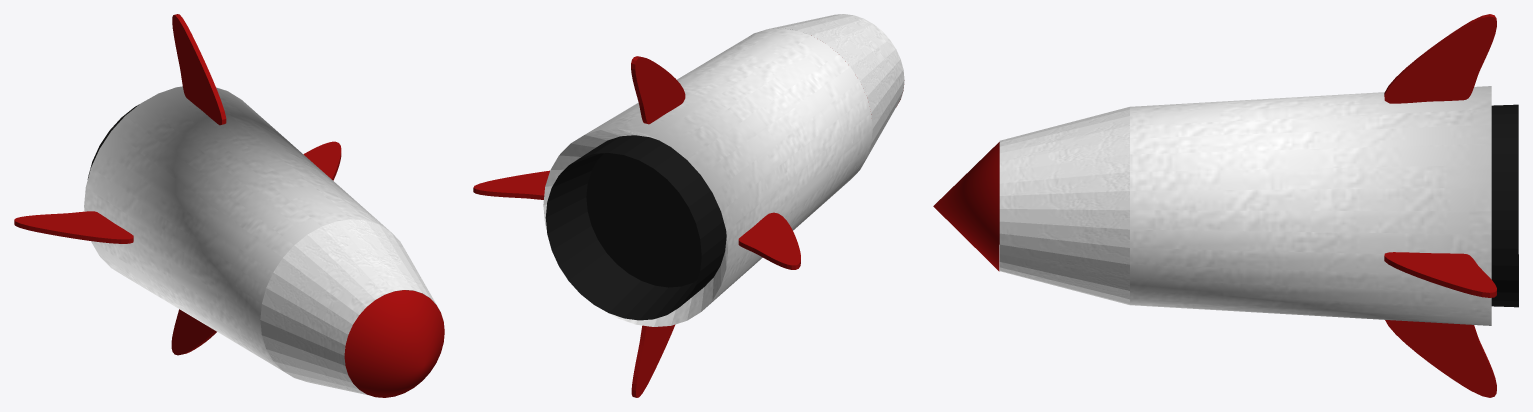
Rendered from rocket.obj.
3 views of the same model, side by side, from view 1: azimuth 30°, elevation 25°; view 2: azimuth 150°, elevation 25°; view 3: azimuth 270°, elevation 25° (orthographic). The views are drawn at different scales.
Visible parts, largest first — view 1: Cylinder.002_Cylinder.003, Cylinder_Cylinder.001, Cone_Cone.002, BezierCurve.001_Mesh.003, BezierCurve.002_Mesh.004, BezierCurve.003_Mesh.005, BezierCurve_Mesh.001; view 2: Cylinder.002_Cylinder.003, Cylinder.001_Cylinder.002, Cylinder_Cylinder.001, BezierCurve.001_Mesh.003, BezierCurve.002_Mesh.004, BezierCurve.003_Mesh.005, BezierCurve_Mesh.001; view 3: Cylinder.002_Cylinder.003, Cylinder_Cylinder.001, BezierCurve.001_Mesh.003, Cylinder.001_Cylinder.002, BezierCurve.003_Mesh.005, Cone_Cone.002, BezierCurve_Mesh.001.
Part boxes in pixels (x1=…): Cylinder.002_Cylinder.003: x1=84, y1=86, x2=411, y2=370; Cylinder_Cylinder.001: x1=260, y1=219, x2=444, y2=395; Cone_Cone.002: x1=344, y1=290, x2=444, y2=397; BezierCurve.001_Mesh.003: x1=172, y1=14, x2=226, y2=125; BezierCurve.002_Mesh.004: x1=14, y1=211, x2=133, y2=243; BezierCurve.003_Mesh.005: x1=171, y1=309, x2=216, y2=355; BezierCurve_Mesh.001: x1=303, y1=141, x2=341, y2=180; Cylinder.002_Cylinder.003: x1=543, y1=28, x2=872, y2=326; Cylinder.001_Cylinder.002: x1=545, y1=135, x2=726, y2=320; Cylinder_Cylinder.001: x1=768, y1=14, x2=904, y2=175; BezierCurve.001_Mesh.003: x1=631, y1=56, x2=685, y2=124; BezierCurve.002_Mesh.004: x1=738, y1=212, x2=800, y2=269; BezierCurve.003_Mesh.005: x1=631, y1=324, x2=675, y2=397; BezierCurve_Mesh.001: x1=473, y1=170, x2=549, y2=199; Cylinder.002_Cylinder.003: x1=1130, y1=86, x2=1491, y2=325; Cylinder_Cylinder.001: x1=999, y1=107, x2=1129, y2=304; BezierCurve.001_Mesh.003: x1=1384, y1=14, x2=1496, y2=103; Cylinder.001_Cylinder.002: x1=1491, y1=104, x2=1518, y2=307; BezierCurve.003_Mesh.005: x1=1385, y1=320, x2=1496, y2=397; Cone_Cone.002: x1=933, y1=142, x2=999, y2=271; BezierCurve_Mesh.001: x1=1384, y1=252, x2=1496, y2=297.
Size of the model in its own units: 6.46 by 6.46 by 8.97.
4 materials, 2 textured.
